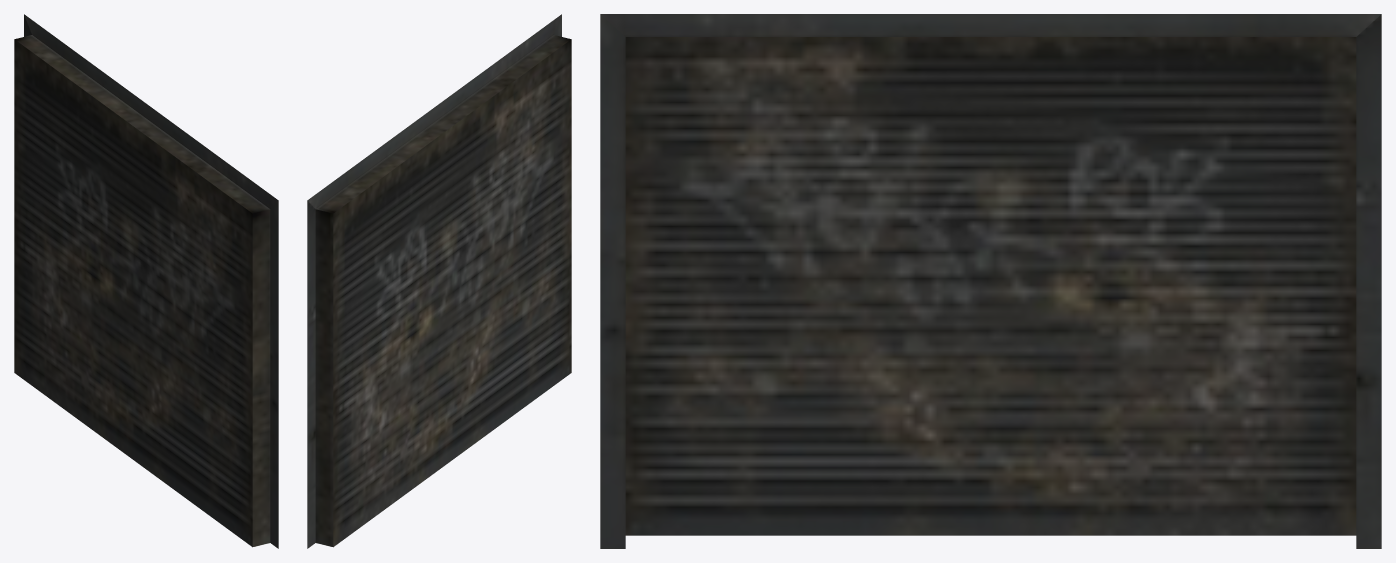
The model's file is Shutter_01.FBX.
3 views of the same model, side by side, from view 1: azimuth 30°, elevation 25°; view 2: azimuth 150°, elevation 25°; view 3: azimuth 270°, elevation 25° (orthographic). The views are drawn at different scales.
Parts seen in each view (by area): view 1: Shutter_01; view 2: Shutter_01; view 3: Shutter_01.
Boxes of the visible parts, x1=… form: Shutter_01: x1=14, y1=14, x2=278, y2=548; Shutter_01: x1=307, y1=14, x2=571, y2=548; Shutter_01: x1=600, y1=14, x2=1381, y2=548.
Bounding box in the file's own units: 18.62 × 351 × 464.
